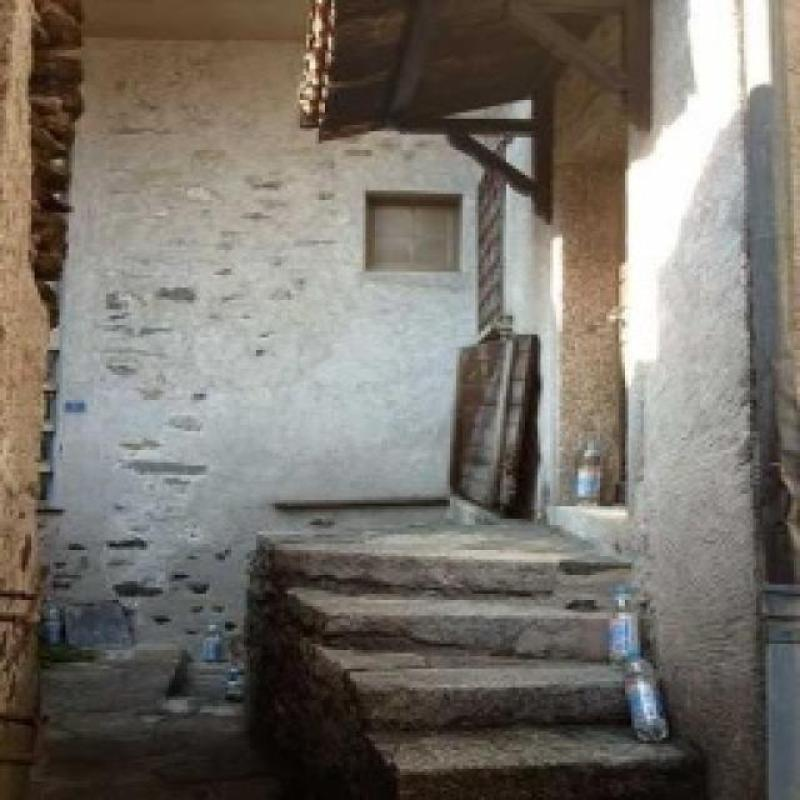botella: (620, 653, 674, 747), (197, 620, 234, 718), (610, 582, 642, 668), (573, 439, 602, 505)
